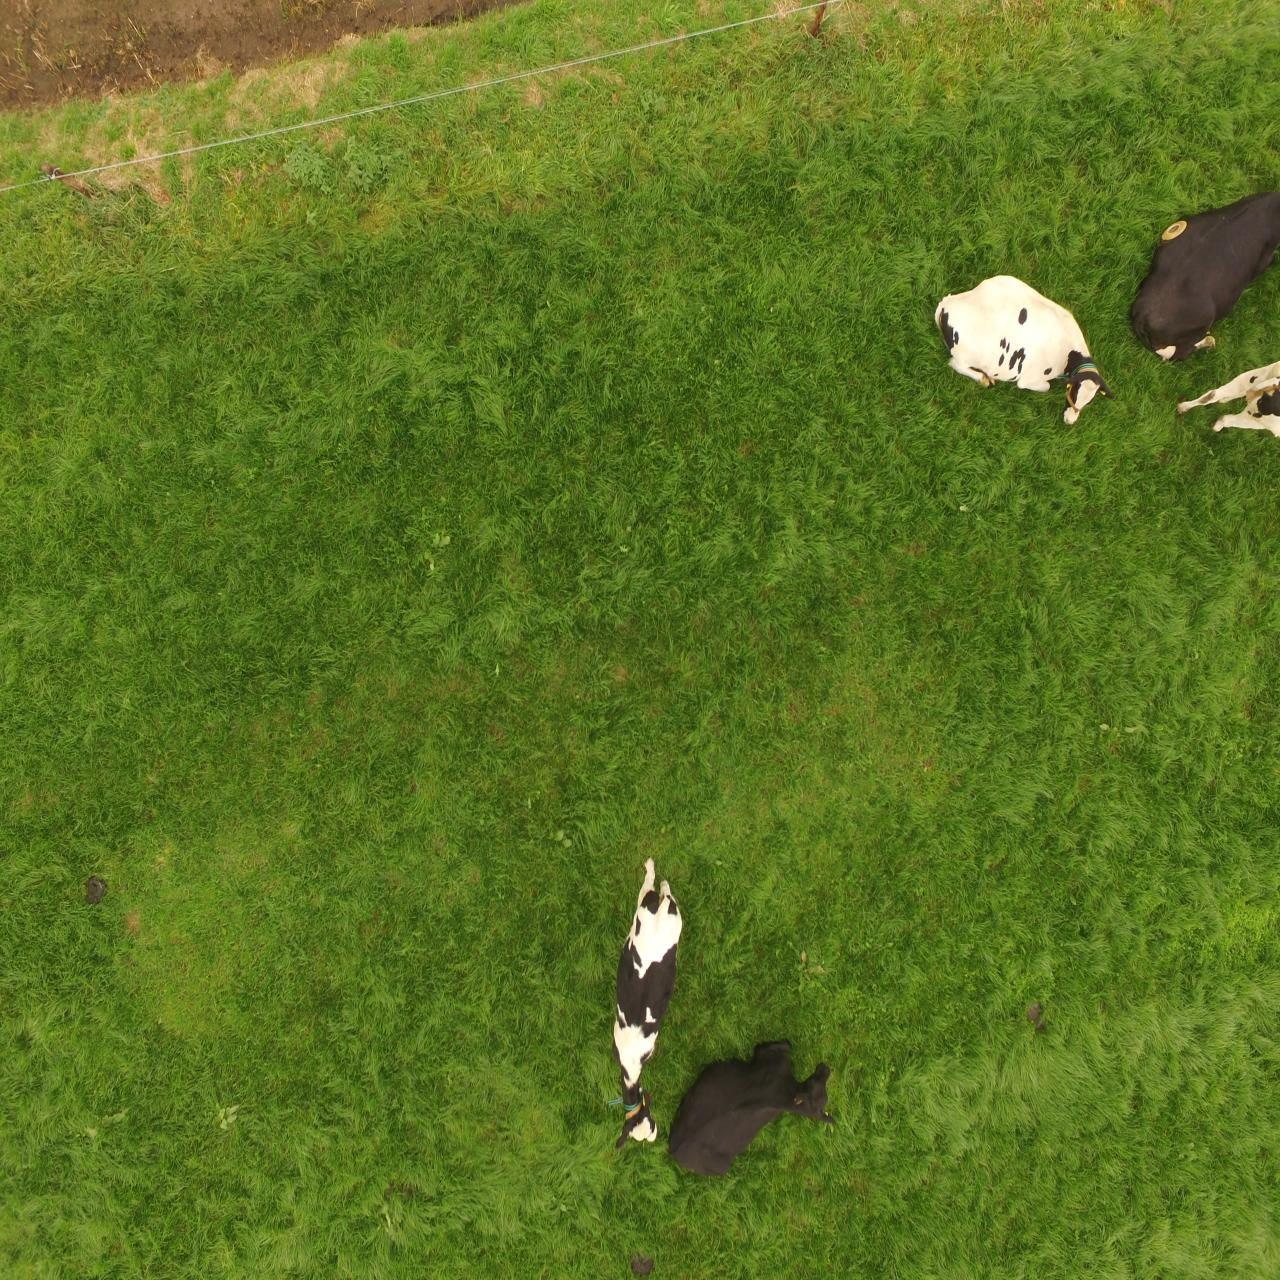cow: (649, 1034, 844, 1212), (604, 847, 703, 1160), (933, 270, 1111, 417)
